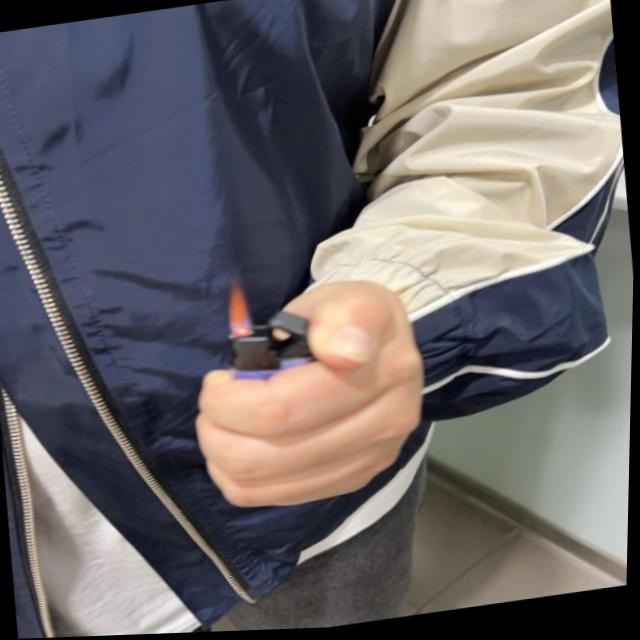Fire: (226, 283, 257, 340)
